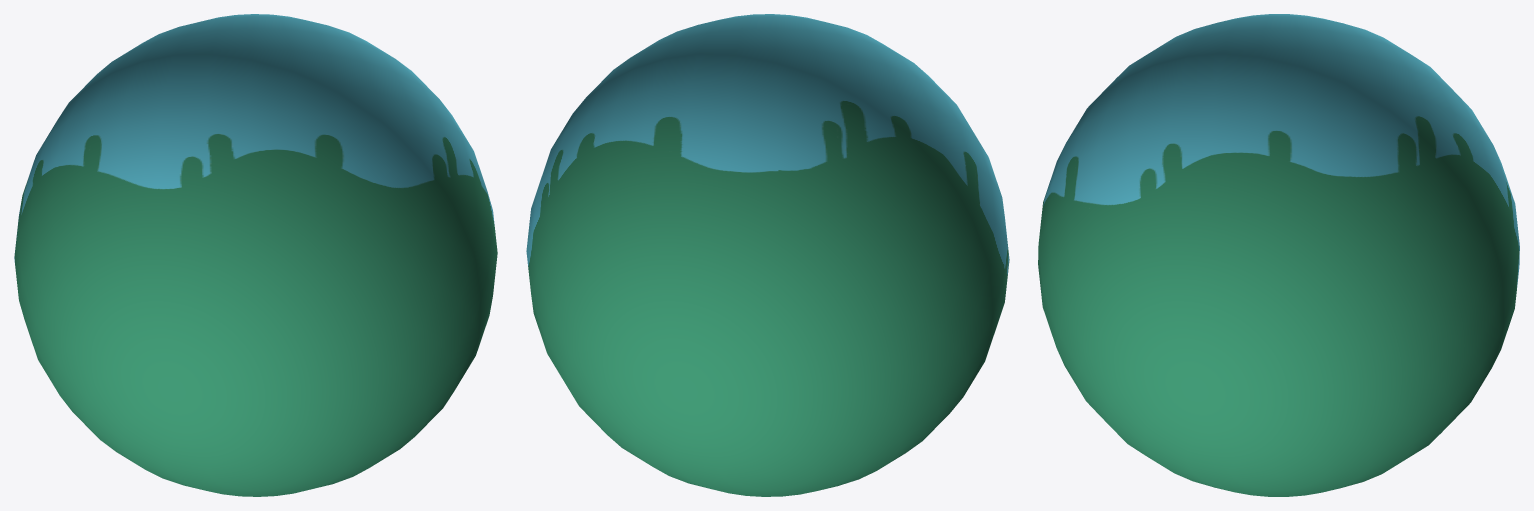
Rendered from backGround007v2.glb.
3 renders of one model, left to right at view 1: azimuth 30°, elevation 25°; view 2: azimuth 150°, elevation 25°; view 3: azimuth 270°, elevation 25°, orthographic.
Visible parts, largest first — view 1: background; view 2: background; view 3: background.
Boxes of the visible parts, <box> form: background: <box>14,14,497,496</box>; background: <box>526,14,1009,496</box>; background: <box>1038,14,1519,496</box>.
Bounding box in the file's own units: 66.33 × 66.59 × 66.33.
Materials: 1 (1 with a texture image).
